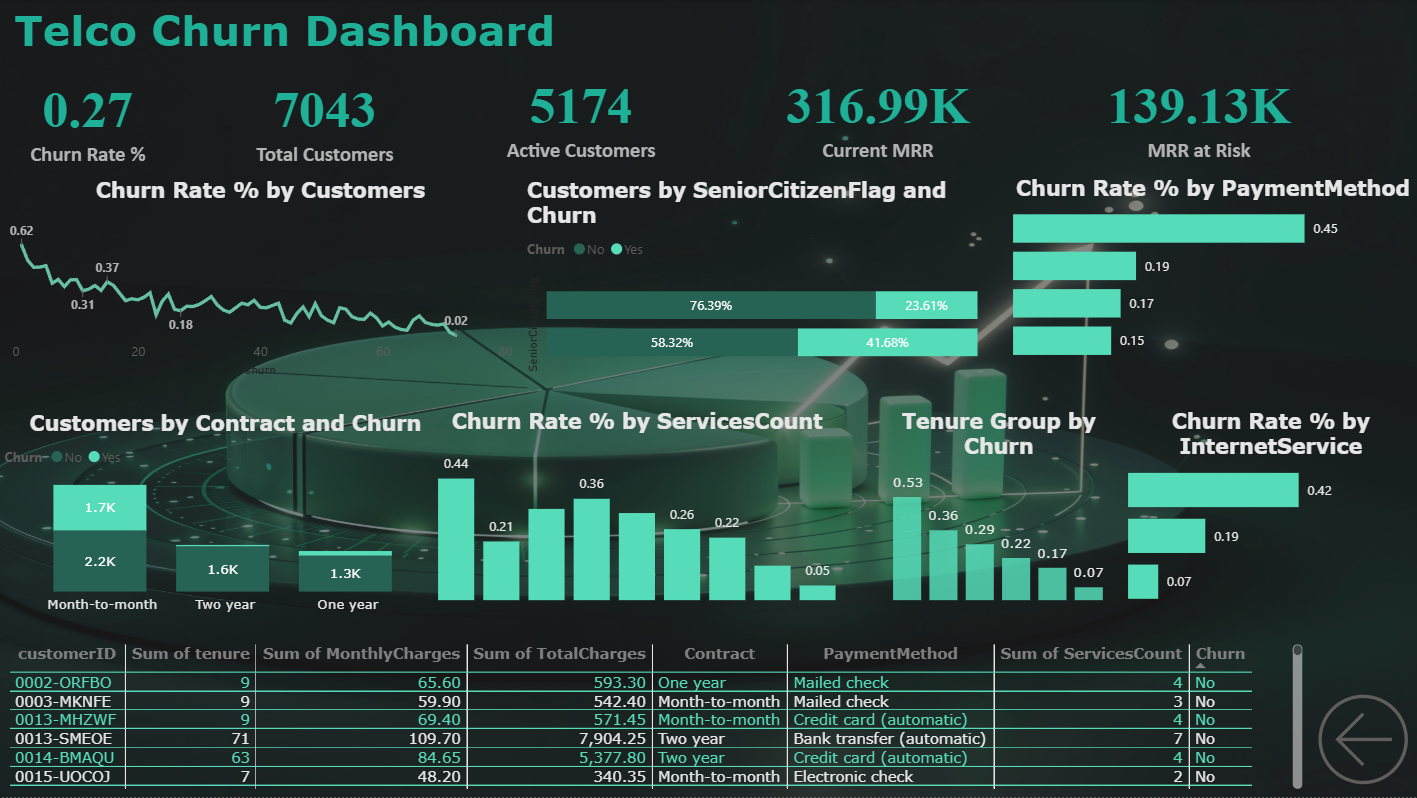

The page's visual inventory and layout, read from the dashboard file:
{"tool":"powerbi","page":{"name":"Dashboard","canvas":[1280,720],"ordinal":0},"visuals":[{"type":"textbox","box":[9.4,0,557.9,71.4],"z":0},{"type":"card","fields":{"Values":["Telco.Churn Rate %"]},"box":[0,57,160.4,102.4],"z":0,"group":"g1"},{"type":"card","fields":{"Values":["Telco.Customers"]},"box":[204.8,57.3,177.9,99.7],"z":1000,"group":"g1"},{"type":"lineChart","title":"Churn Rate % by Customers","fields":{"Category":["Telco.tenure"],"Y":["Telco.Churn Rate %"]},"box":[0,161.4,471.4,184.3],"z":1000},{"type":"card","fields":{"Values":["Telco.Active Customers"]},"box":[436.6,47.5,177.9,113.2],"z":2000,"group":"g1"},{"type":"clusteredColumnChart","fields":{"Y":["Telco.Churn Rate %"],"Category":["Telco.TenureGroup"]},"box":[801.4,370,200,178.6],"z":2000},{"type":"card","title":"scsvsv","fields":{"Values":["Telco.MRR_Active"]},"box":[698.1,57.4,190,93],"z":3000,"group":"g1"},{"type":"columnChart","fields":{"Category":["Telco.Contract"],"Series":["Telco.Churn"],"Y":["Telco.Customers"]},"box":[0,370.6,408.3,192.7],"z":3000},{"type":"card","fields":{"Values":["Telco.Revenue_Lost_to_Churn_Monthly"]},"box":[923.1,56.1,318,95.7],"z":4000,"group":"g1"},{"type":"barChart","fields":{"Category":["Telco.PaymentMethod"],"Y":["Telco.Churn Rate %"]},"box":[910,158.6,370,168.6],"z":4000},{"type":"barChart","fields":{"Category":["Telco.InternetService"],"Y":["Telco.Churn Rate %"]},"box":[1012.9,370,267.1,178.6],"z":5000},{"type":"columnChart","fields":{"Y":["Telco.Churn Rate %"],"Category":["Telco.ServicesCount"]},"box":[391.4,370,368.6,178.6],"z":6000},{"type":"hundredPercentStackedBarChart","fields":{"Category":["Telco.SeniorCitizenFlag"],"Series":["Telco.Churn"],"Y":["Telco.Customers"]},"box":[471.7,161.7,416.4,184.6],"z":7000},{"type":"tableEx","fields":{"Values":["Telco.customerID","Sum(Telco.tenure)","Sum(Telco.MonthlyCharges)","Sum(Telco.TotalCharges)","Telco.Contract","Telco.PaymentMethod","Sum(Telco.ServicesCount)","Telco.Churn"]},"box":[2.9,577.1,1177.1,140],"z":8000},{"type":"actionButton","box":[1180,617.1,100,100],"z":9000},{"type":"group","id":"g1","title":"Group 1","box":[0,47.5,1241.2,113.2],"z":10000}]}

Visuals, with their boxes in screenshot pixels (x1, y1, x2, y2), scaled from the page's 1280x720 canvas onto the 1417x798 screenshot:
textbox: 10,0,628,79
card - Telco.Churn Rate %: 0,63,178,177
card - Telco.Customers: 227,64,424,174
"Churn Rate % by Customers" lineChart: 0,179,522,383
card - Telco.Active Customers: 483,53,680,178
clusteredColumnChart - Telco.Churn Rate % x Telco.TenureGroup: 887,410,1109,608
"scsvsv" card: 773,64,983,167
columnChart - Telco.Contract x Telco.Churn: 0,411,452,624
card - Telco.Revenue_Lost_to_Churn_Monthly: 1022,62,1374,168
barChart - Telco.PaymentMethod x Telco.Churn Rate %: 1007,176,1416,363
barChart - Telco.InternetService x Telco.Churn Rate %: 1121,410,1416,608
columnChart - Telco.Churn Rate % x Telco.ServicesCount: 433,410,841,608
hundredPercentStackedBarChart - Telco.SeniorCitizenFlag x Telco.Churn: 522,179,983,384
tableEx - Telco.customerID x Sum(Telco.tenure): 3,640,1306,795
actionButton: 1306,684,1416,795
"Group 1" group: 0,53,1374,178
